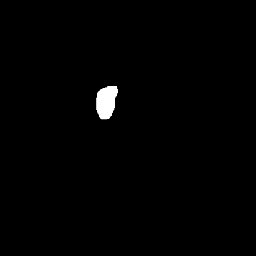mass: (94, 82, 118, 116)
